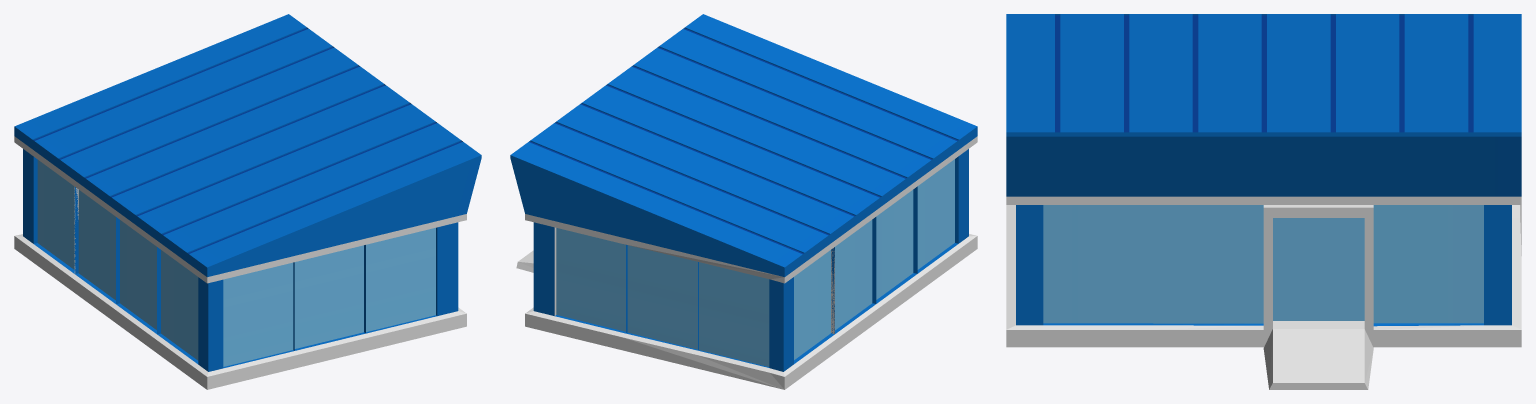
File: shop_world_ap_0_lev1.glb
3 views of the same model, side by side, from view 1: azimuth 30°, elevation 25°; view 2: azimuth 150°, elevation 25°; view 3: azimuth 270°, elevation 25° (orthographic). The views are drawn at different scales.
Visible parts, largest first — view 1: shop_world_ap_0_lev1; view 2: shop_world_ap_0_lev1; view 3: shop_world_ap_0_lev1.
Part boxes in pixels (x1,y1,x2,y2): shop_world_ap_0_lev1: [14, 14, 481, 389]; shop_world_ap_0_lev1: [510, 14, 977, 389]; shop_world_ap_0_lev1: [1006, 14, 1521, 389].
Bounding box in the file's own units: 3.65 × 1.8 × 3.74.
1 material, 1 textured.
